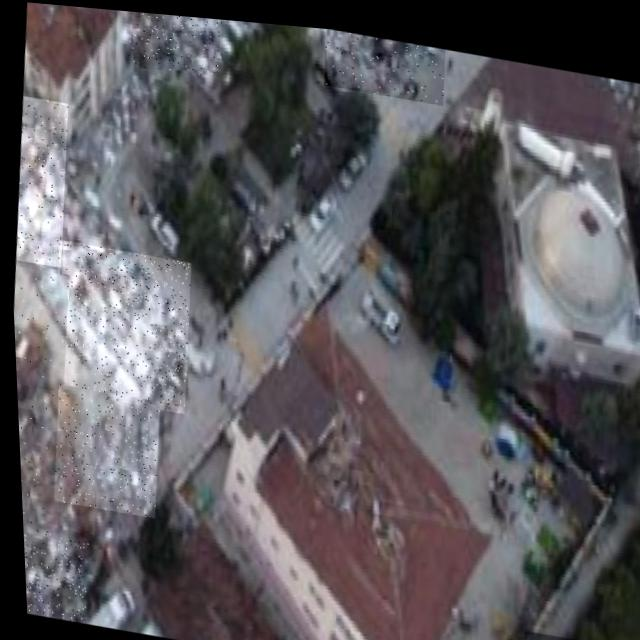Rubble: (47, 238, 194, 412), (9, 265, 74, 528), (45, 383, 160, 516), (7, 94, 72, 267), (321, 22, 447, 97), (18, 525, 86, 622), (125, 9, 224, 75)
